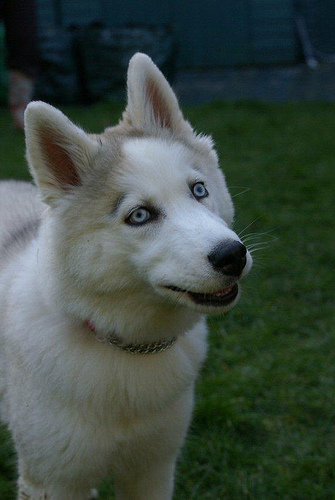dog: (0, 46, 275, 498)
